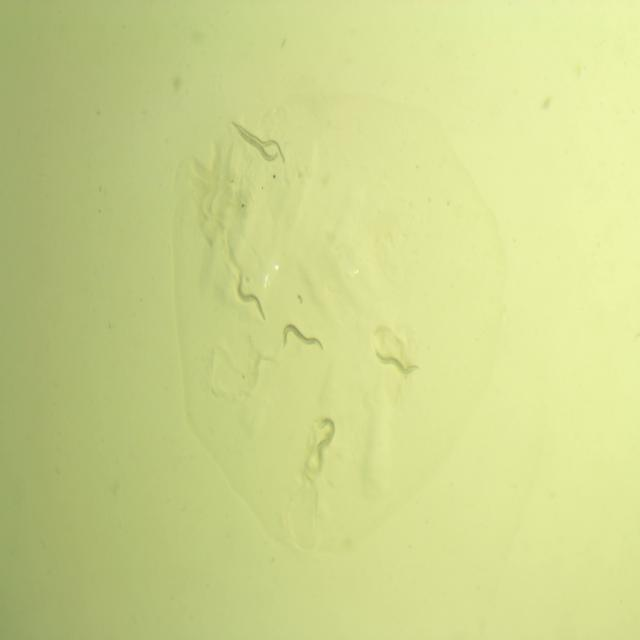worm: (234, 120, 287, 168), (229, 117, 280, 164), (372, 342, 423, 382), (279, 318, 326, 359), (234, 269, 266, 328), (310, 414, 340, 463)
